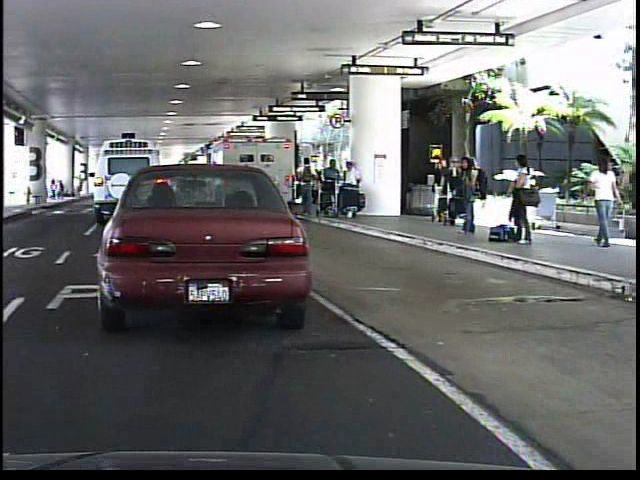person: (583, 154, 622, 249), (505, 149, 534, 247)
